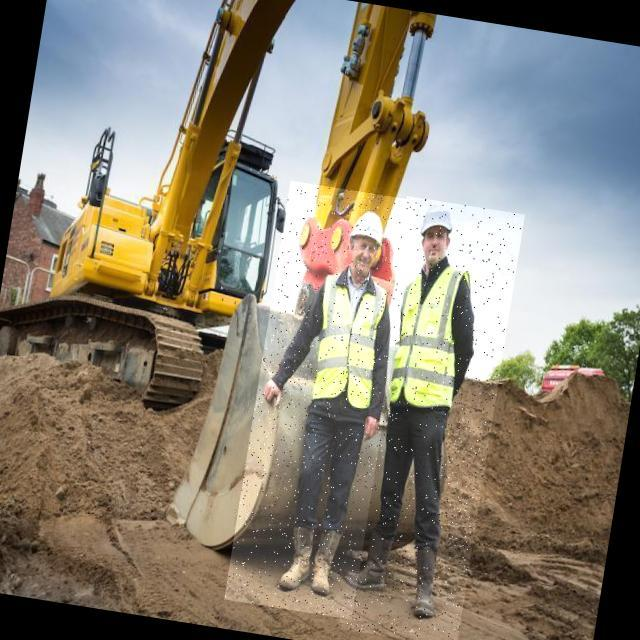Helmet: (340, 205, 397, 253), (412, 202, 463, 241)
Human: (224, 181, 418, 620), (338, 195, 525, 640)
Safety Boot: (338, 521, 401, 602), (399, 536, 455, 626), (273, 517, 323, 597), (304, 512, 344, 605)
Safety Vest: (380, 253, 481, 422), (294, 266, 397, 414)
